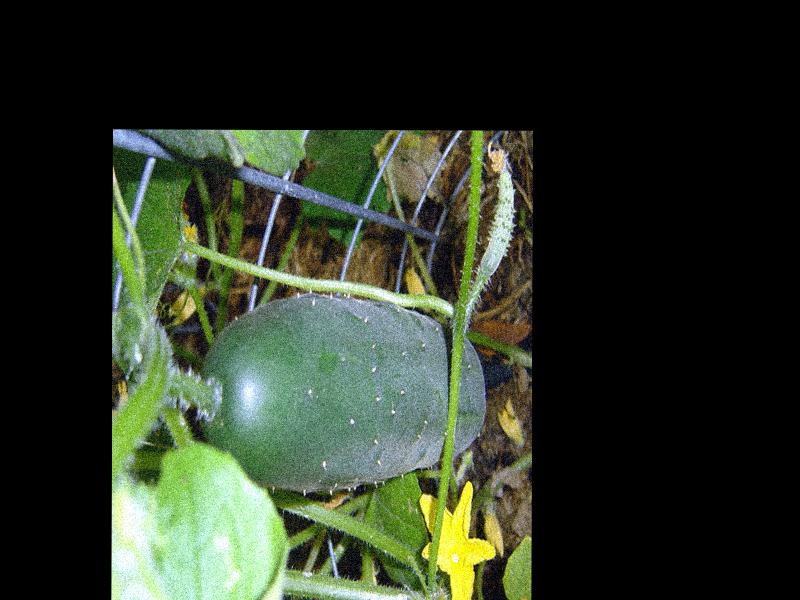Cucumber: (199, 290, 484, 491)
